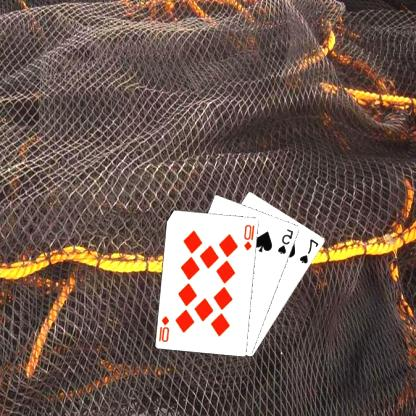10D: (243, 222, 258, 251), (158, 313, 172, 343)
5S: (277, 226, 297, 256)
7S: (299, 236, 322, 265)
